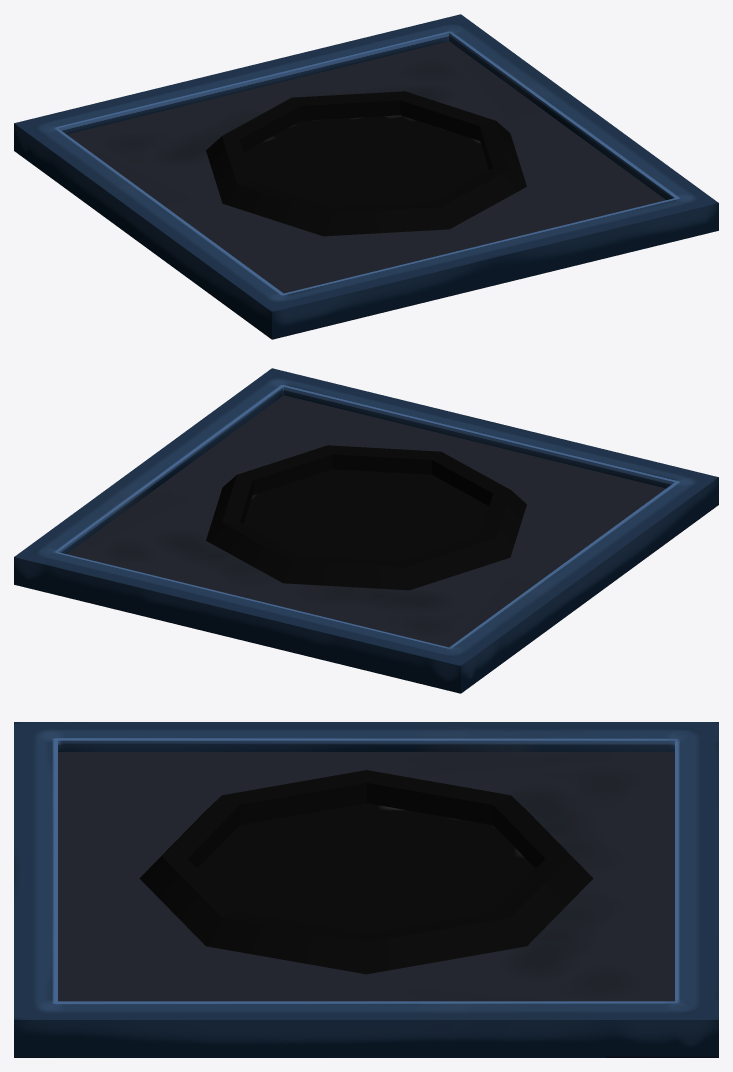
The model's file is OneBigSpike_Tile.fbx.
The picture shows the model from 3 angles, top to bottom: view 1: azimuth 30°, elevation 25°; view 2: azimuth 150°, elevation 25°; view 3: azimuth 270°, elevation 25°; orthographic projection. The views are drawn at different scales.
Parts seen in each view (by area): view 1: polySurface22; view 2: polySurface22; view 3: polySurface22.
Part boxes in pixels (box(x1,y1,x2,y2)): polySurface22: box(14, 14, 718, 339); polySurface22: box(14, 368, 718, 693); polySurface22: box(14, 722, 718, 1057).
Bounding box in the file's own units: 80 × 6.57 × 80.
